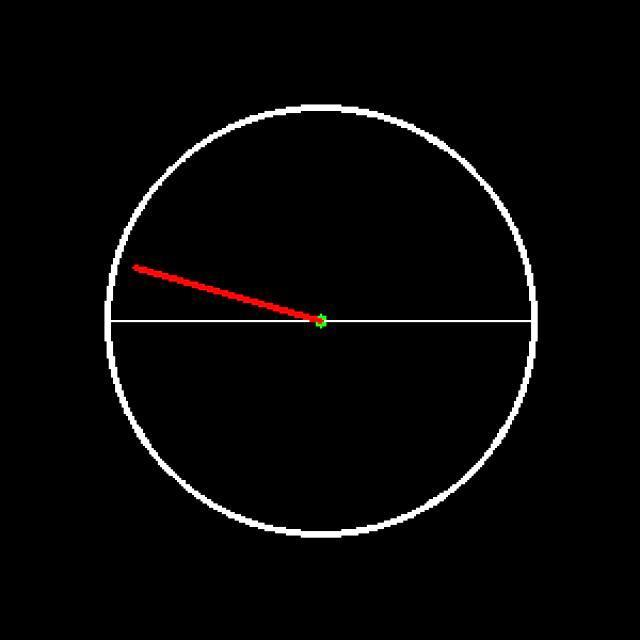Needle_Tip: (112, 244, 177, 295)
Needle_base: (273, 283, 366, 359)
